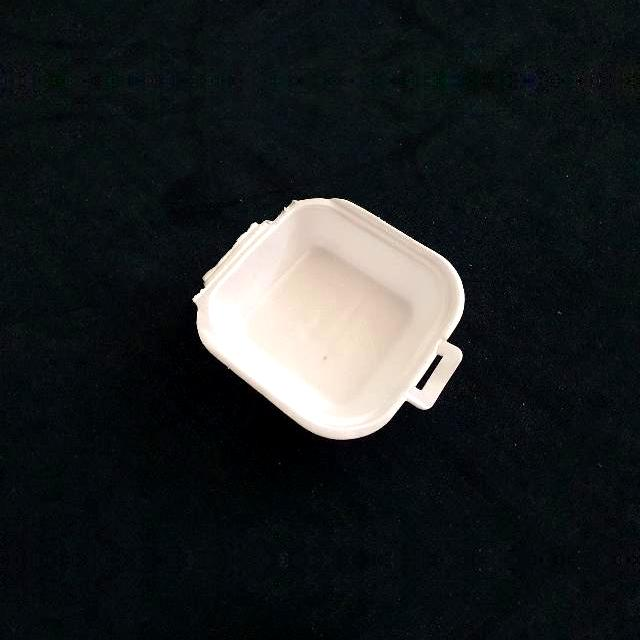Styrofoam: (192, 196, 468, 440), (194, 197, 465, 439)
